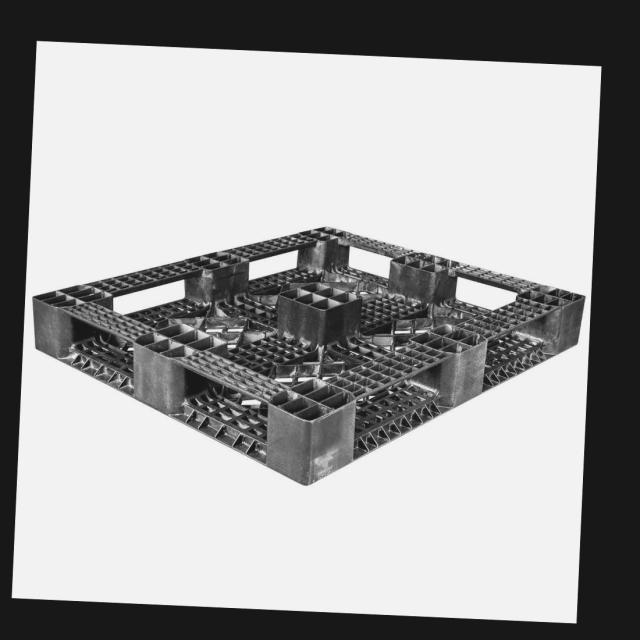non-igps: (28, 224, 590, 492)
